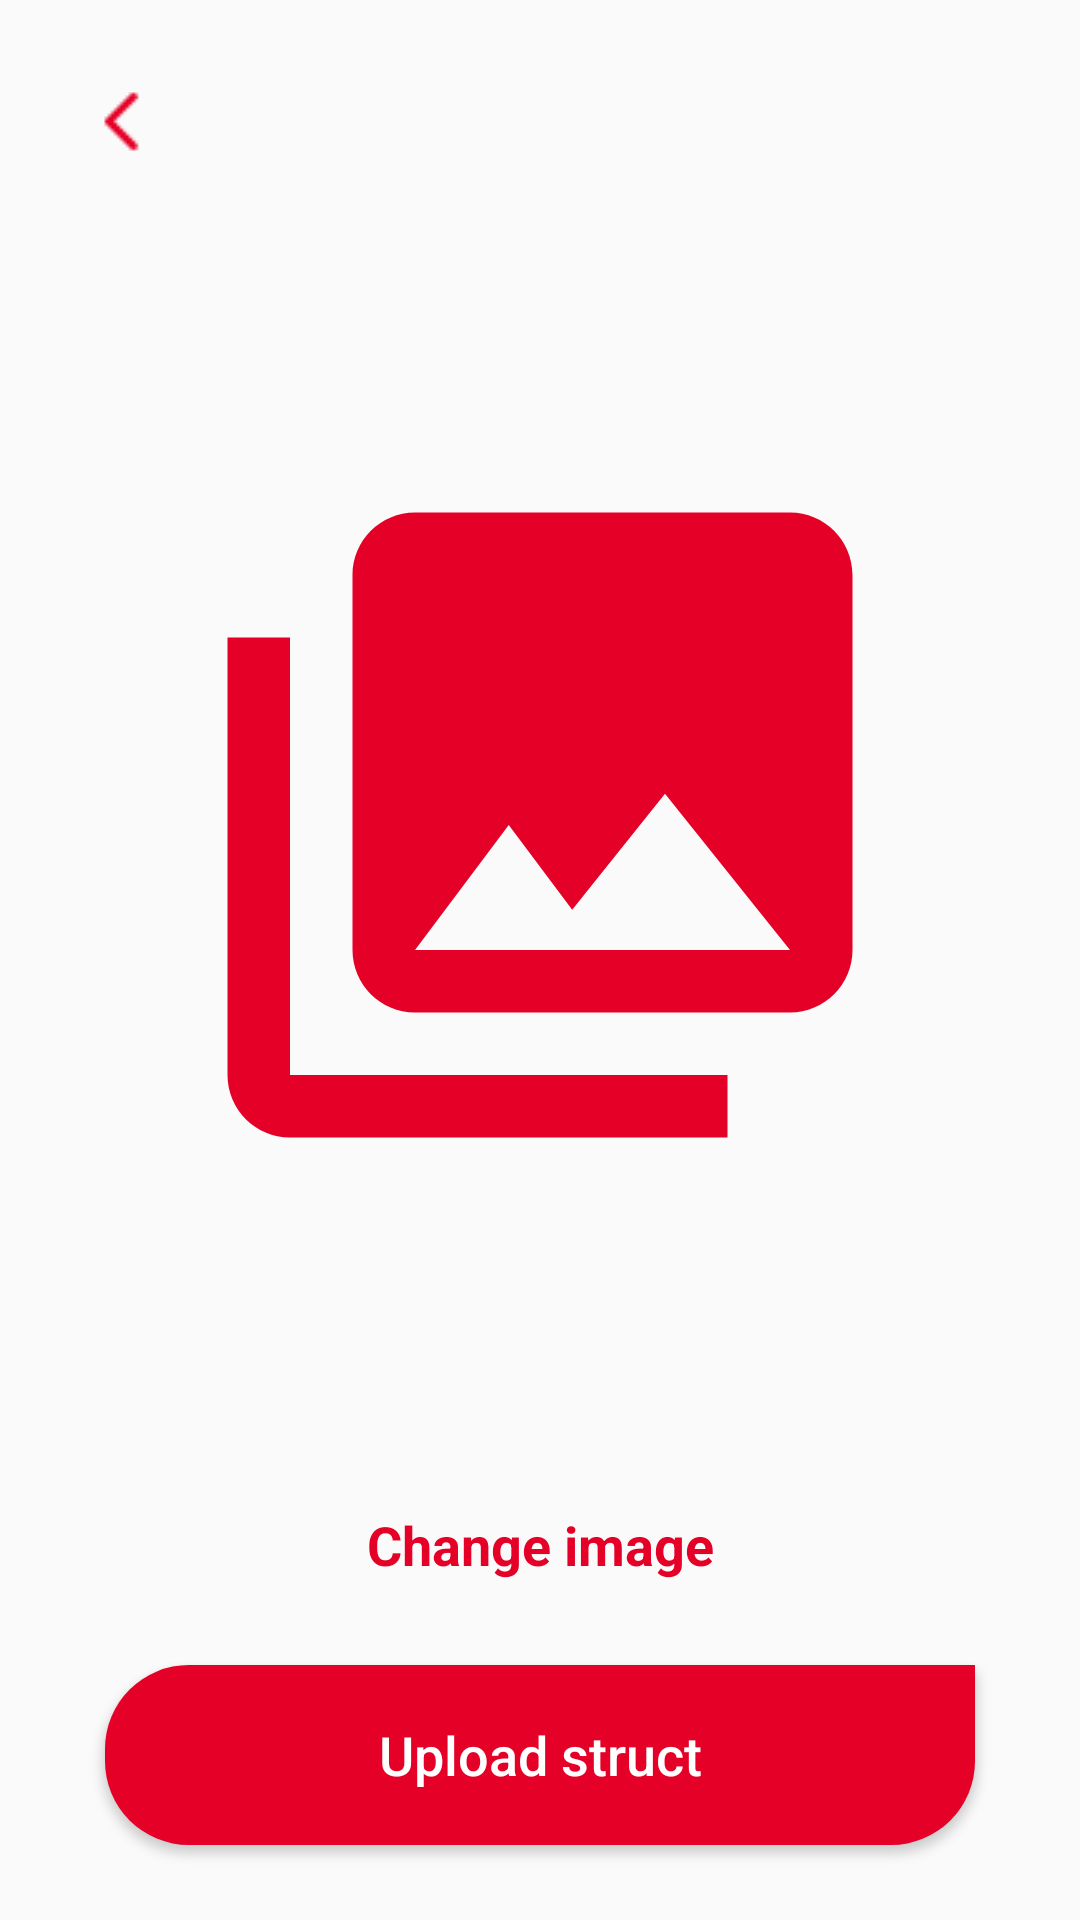

Point at icon controls on the screen. Image size 1080px×1920px, points as (x,y).
back: (121,121)
